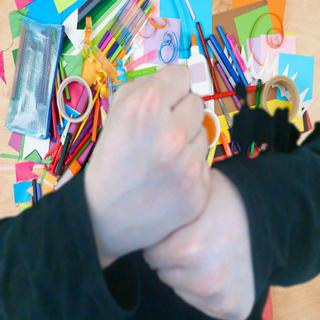CAREFUL: (81, 55, 262, 320)
